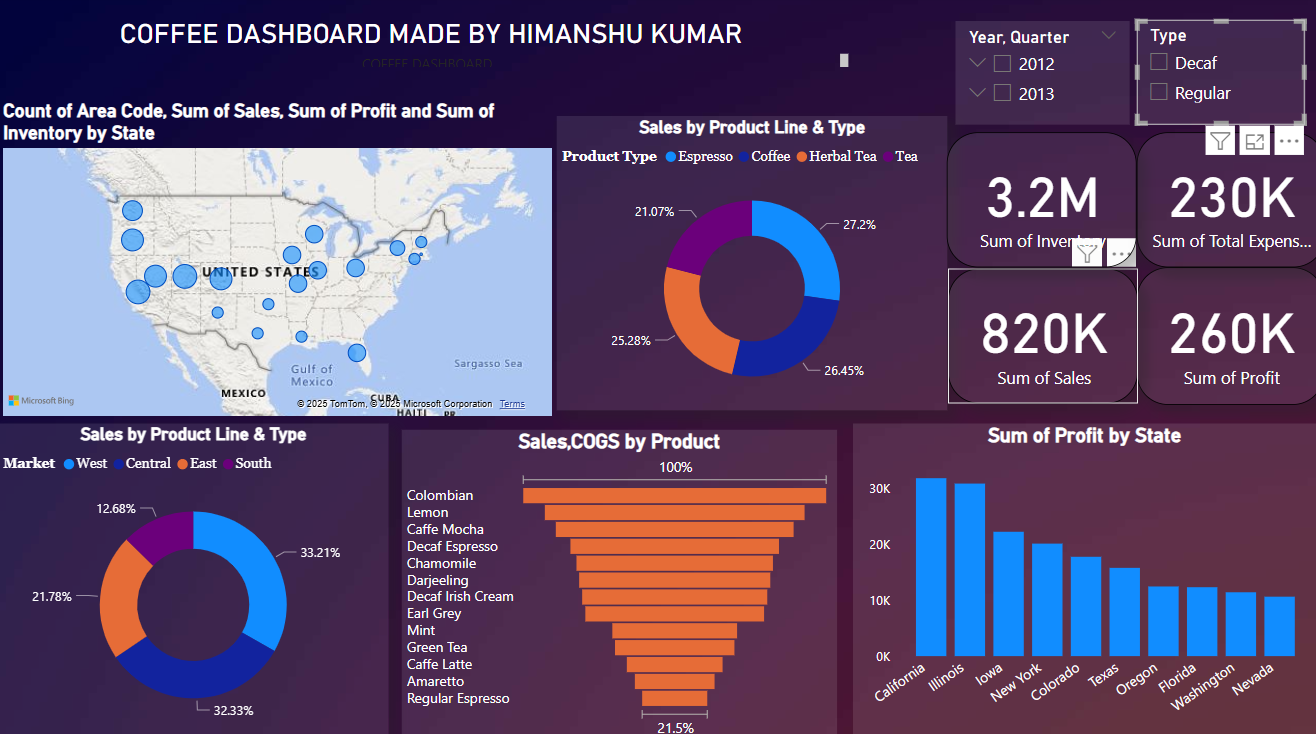

What the dashboard file says about the page in this screenshot:
{"tool":"powerbi","page":{"name":"Page 1","canvas":[1280,720],"ordinal":0},"visuals":[{"type":"donutChart","title":"Sales by Product Line & Type ","fields":{"Category":["Coffee.Product Type"],"Y":["Coffee.Sales"],"Series":["Coffee.Product Line"]},"box":[538.6,115.7,377.1,284.3],"z":0},{"type":"funnel","title":"Sales,COGS by Product","fields":{"Category":["Coffee.Product"],"Y":["Coffee.COGS"]},"box":[389.5,418.5,419.7,301.5],"z":1000},{"type":"slicer","fields":{"Values":["Coffee.Type"]},"box":[1098.6,22.9,162.9,101.4],"z":2000},{"type":"card","fields":{"Values":["Coffee.Profit"]},"box":[1098.7,261.7,180.9,132.7],"z":3000},{"type":"card","fields":{"Values":["Coffee.Sales"]},"box":[916.6,262.9,183.3,130.3],"z":4000},{"type":"card","fields":{"Values":["Coffee.Total Expenses"]},"box":[1098.6,131.4,181.4,130],"z":5000},{"type":"columnChart","fields":{"Category":["Coffee.State"],"Y":["Coffee.Profit"]},"box":[825.4,412.7,447,301.6],"z":6000},{"type":"map","fields":{"Category":["Coffee.State"],"Size":["Coffee.Area Code"]},"box":[0,100,538.6,310],"z":7000},{"type":"donutChart","title":"Sales by Product Line & Type ","fields":{"Y":["Coffee.Sales"],"Category":["Coffee.Market"]},"box":[0,412.9,377.1,301.4],"z":8000},{"type":"card","fields":{"Values":["Coffee.Inventory"]},"box":[915.7,131.4,182.9,130],"z":9000},{"type":"slicer","fields":{"Values":["Coffee.Date.Variation.Date Hierarchy.Year","Coffee.Date.Variation.Date Hierarchy.Quarter"]},"box":[923.8,24.1,167.6,100.1],"z":10000},{"type":"textbox","title":"COFFEE DASHBOARD MADE BY HIMANSHU KUMAR","box":[11.4,20,814.3,52.9],"z":11000}]}

Visuals, with their boxes in screenshot pixels (x1, y1, x2, y2), scaled from the page's 1280x720 canvas onto the 1316x734 screenshot:
"Sales by Product Line & Type " donutChart: box=[554, 118, 941, 408]
"Sales,COGS by Product" funnel: box=[400, 427, 832, 733]
slicer - Coffee.Type: box=[1129, 23, 1297, 127]
card - Coffee.Profit: box=[1130, 267, 1315, 402]
card - Coffee.Sales: box=[942, 268, 1131, 401]
card - Coffee.Total Expenses: box=[1129, 134, 1315, 266]
columnChart - Coffee.State x Coffee.Profit: box=[849, 421, 1308, 728]
map - Coffee.State x Coffee.Area Code: box=[0, 102, 554, 418]
"Sales by Product Line & Type " donutChart: box=[0, 421, 388, 728]
card - Coffee.Inventory: box=[941, 134, 1129, 266]
slicer - Coffee.Date.Variation.Date Hierarchy.Year x Coffee.Date.Variation.Date Hierarchy.Quarter: box=[950, 25, 1122, 127]
"COFFEE DASHBOARD MADE BY HIMANSHU KUMAR" textbox: box=[12, 20, 849, 74]
